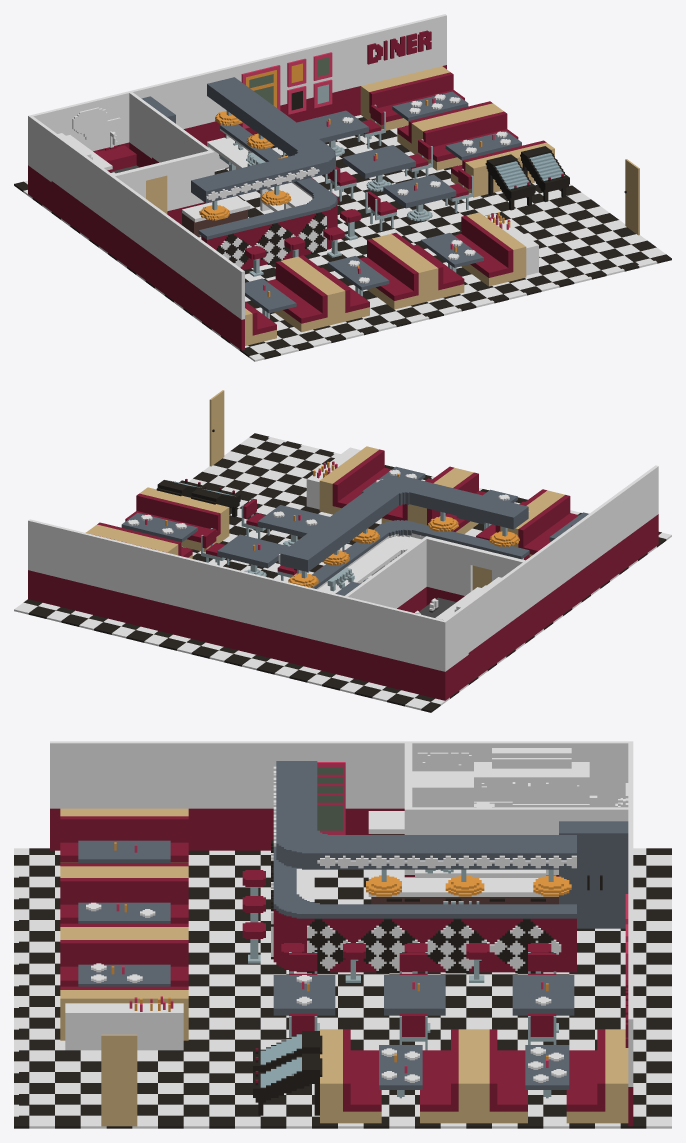
The model's file is Sunken City - Voxel Diner-1-everything.obj.
3 renders of one model, top to bottom at view 1: azimuth 30°, elevation 25°; view 2: azimuth 150°, elevation 25°; view 3: azimuth 270°, elevation 25°, orthographic. The views are drawn at different scales.
Visible parts, largest first — view 1: everything; view 2: everything; view 3: everything.
Boxes of the visible parts, box(x1,y1,x2,y2) form: everything: box(14, 14, 671, 361); everything: box(14, 390, 671, 712); everything: box(14, 741, 671, 1128).
Size of the model in its own units: 25.6 by 5.2 by 25.6.
1 material, 1 textured.
